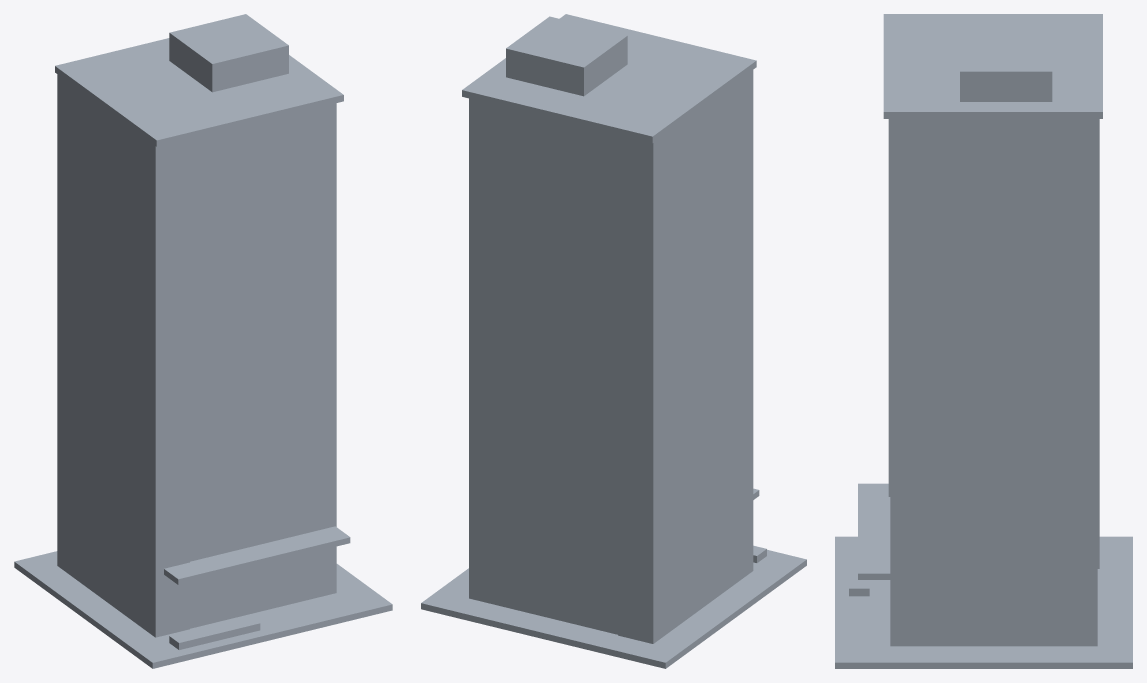
File: mirante.glb
The picture shows the model from 3 angles, left to right: view 1: azimuth 30°, elevation 25°; view 2: azimuth 150°, elevation 25°; view 3: azimuth 270°, elevation 25°; orthographic projection. The views are drawn at different scales.
Visible parts, largest first — view 1: mirante-slate-2, mirante-plaster-3, mirante-plaster-4, mirante-stone-1, mirante-slate-5, mirante-plaster-6, mirante-stone-7; view 2: mirante-slate-2, mirante-plaster-3, mirante-plaster-4, mirante-stone-1, mirante-slate-5; view 3: mirante-slate-2, mirante-plaster-4, mirante-stone-1, mirante-slate-5, mirante-plaster-6, mirante-plaster-3, mirante-stone-7.
Part boxes in pixels (x1,y1,x2,y2): mirante-slate-2: [190, 103, 336, 628]; mirante-plaster-3: [57, 74, 189, 637]; mirante-plaster-4: [55, 38, 343, 146]; mirante-stone-1: [14, 551, 392, 668]; mirante-slate-5: [169, 14, 288, 92]; mirante-plaster-6: [164, 526, 350, 584]; mirante-stone-7: [169, 616, 260, 649]; mirante-slate-2: [469, 98, 617, 634]; mirante-plaster-3: [618, 70, 753, 643]; mirante-plaster-4: [462, 14, 756, 143]; mirante-stone-1: [421, 549, 806, 668]; mirante-slate-5: [506, 16, 627, 96]; mirante-slate-2: [890, 119, 1097, 646]; mirante-plaster-4: [883, 14, 1102, 118]; mirante-stone-1: [835, 536, 1132, 668]; mirante-slate-5: [960, 31, 1052, 101]; mirante-plaster-6: [858, 483, 890, 579]; mirante-plaster-3: [888, 119, 1099, 568]; mirante-stone-7: [849, 546, 869, 596].
Bounding box in the file's own units: 10.8 × 22.96 × 10.8.
